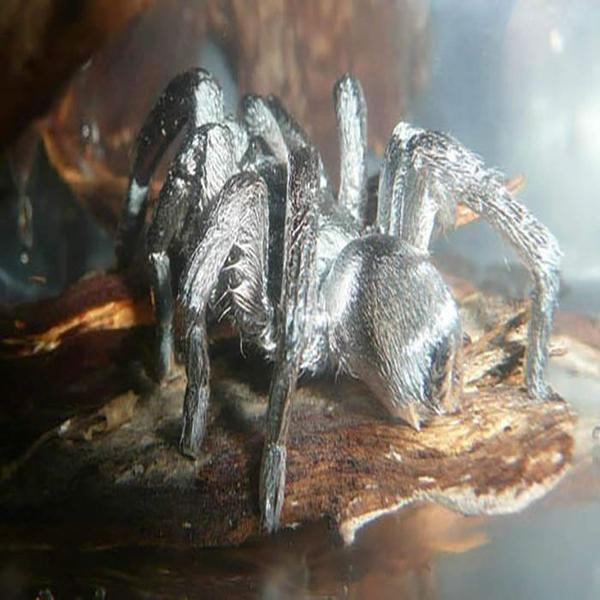Tarantula Spider: (119, 67, 567, 519)
